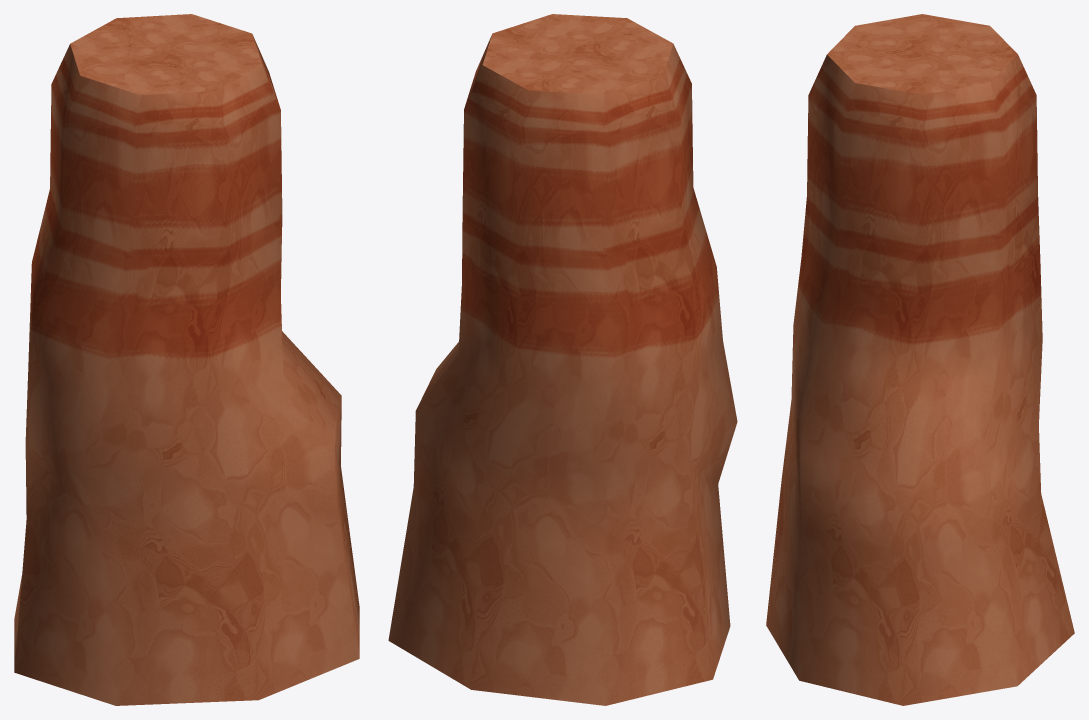
File: Tallcliff03.fbx
3 views of the same model, side by side, from view 1: azimuth 30°, elevation 25°; view 2: azimuth 150°, elevation 25°; view 3: azimuth 270°, elevation 25° (orthographic). The views are drawn at different scales.
Visible parts, largest first — view 1: Pillar.001; view 2: Pillar.001; view 3: Pillar.001.
Part boxes in pixels (x1,y1,x2,y2): Pillar.001: (14, 14, 359, 705); Pillar.001: (388, 14, 737, 705); Pillar.001: (766, 14, 1074, 705).
Size of the model in its own units: 2.05 by 3.52 by 1.74.
